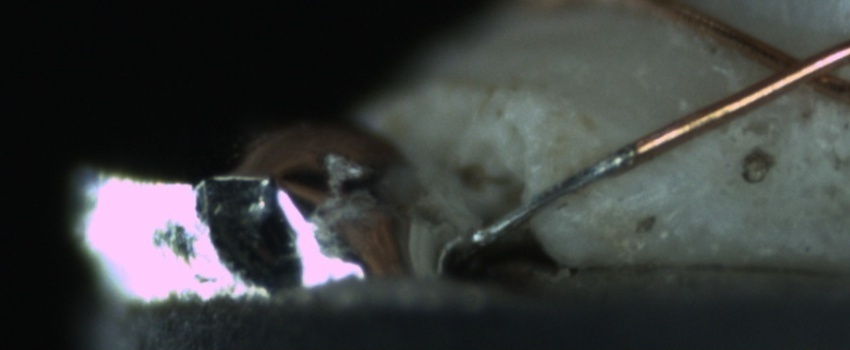CL: (748, 36, 846, 100)
TS: (468, 144, 634, 249)
TTCW: (460, 116, 672, 251)
